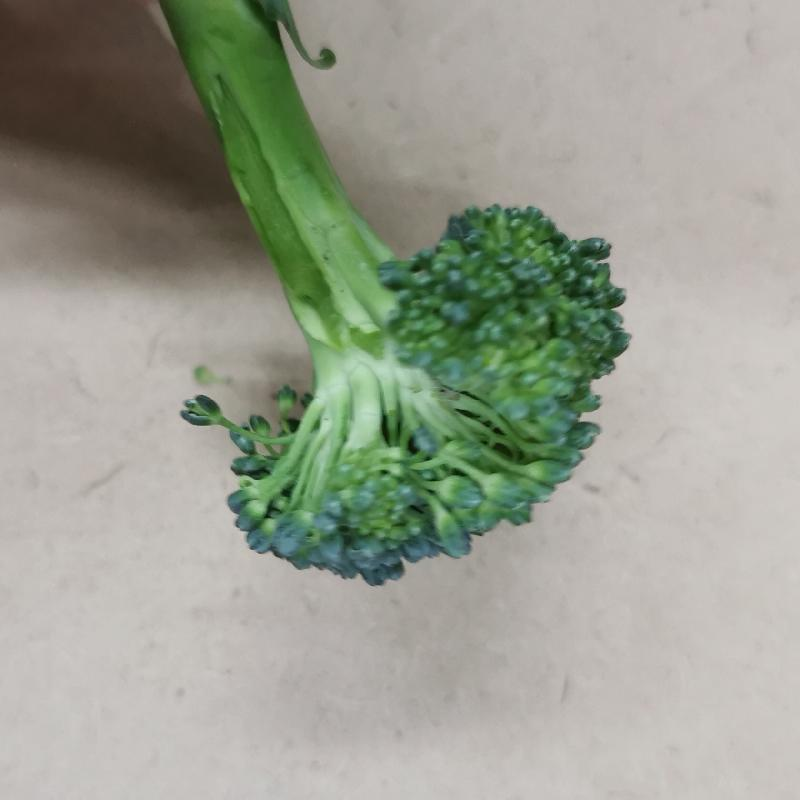broccoli: (136, 1, 631, 582)
